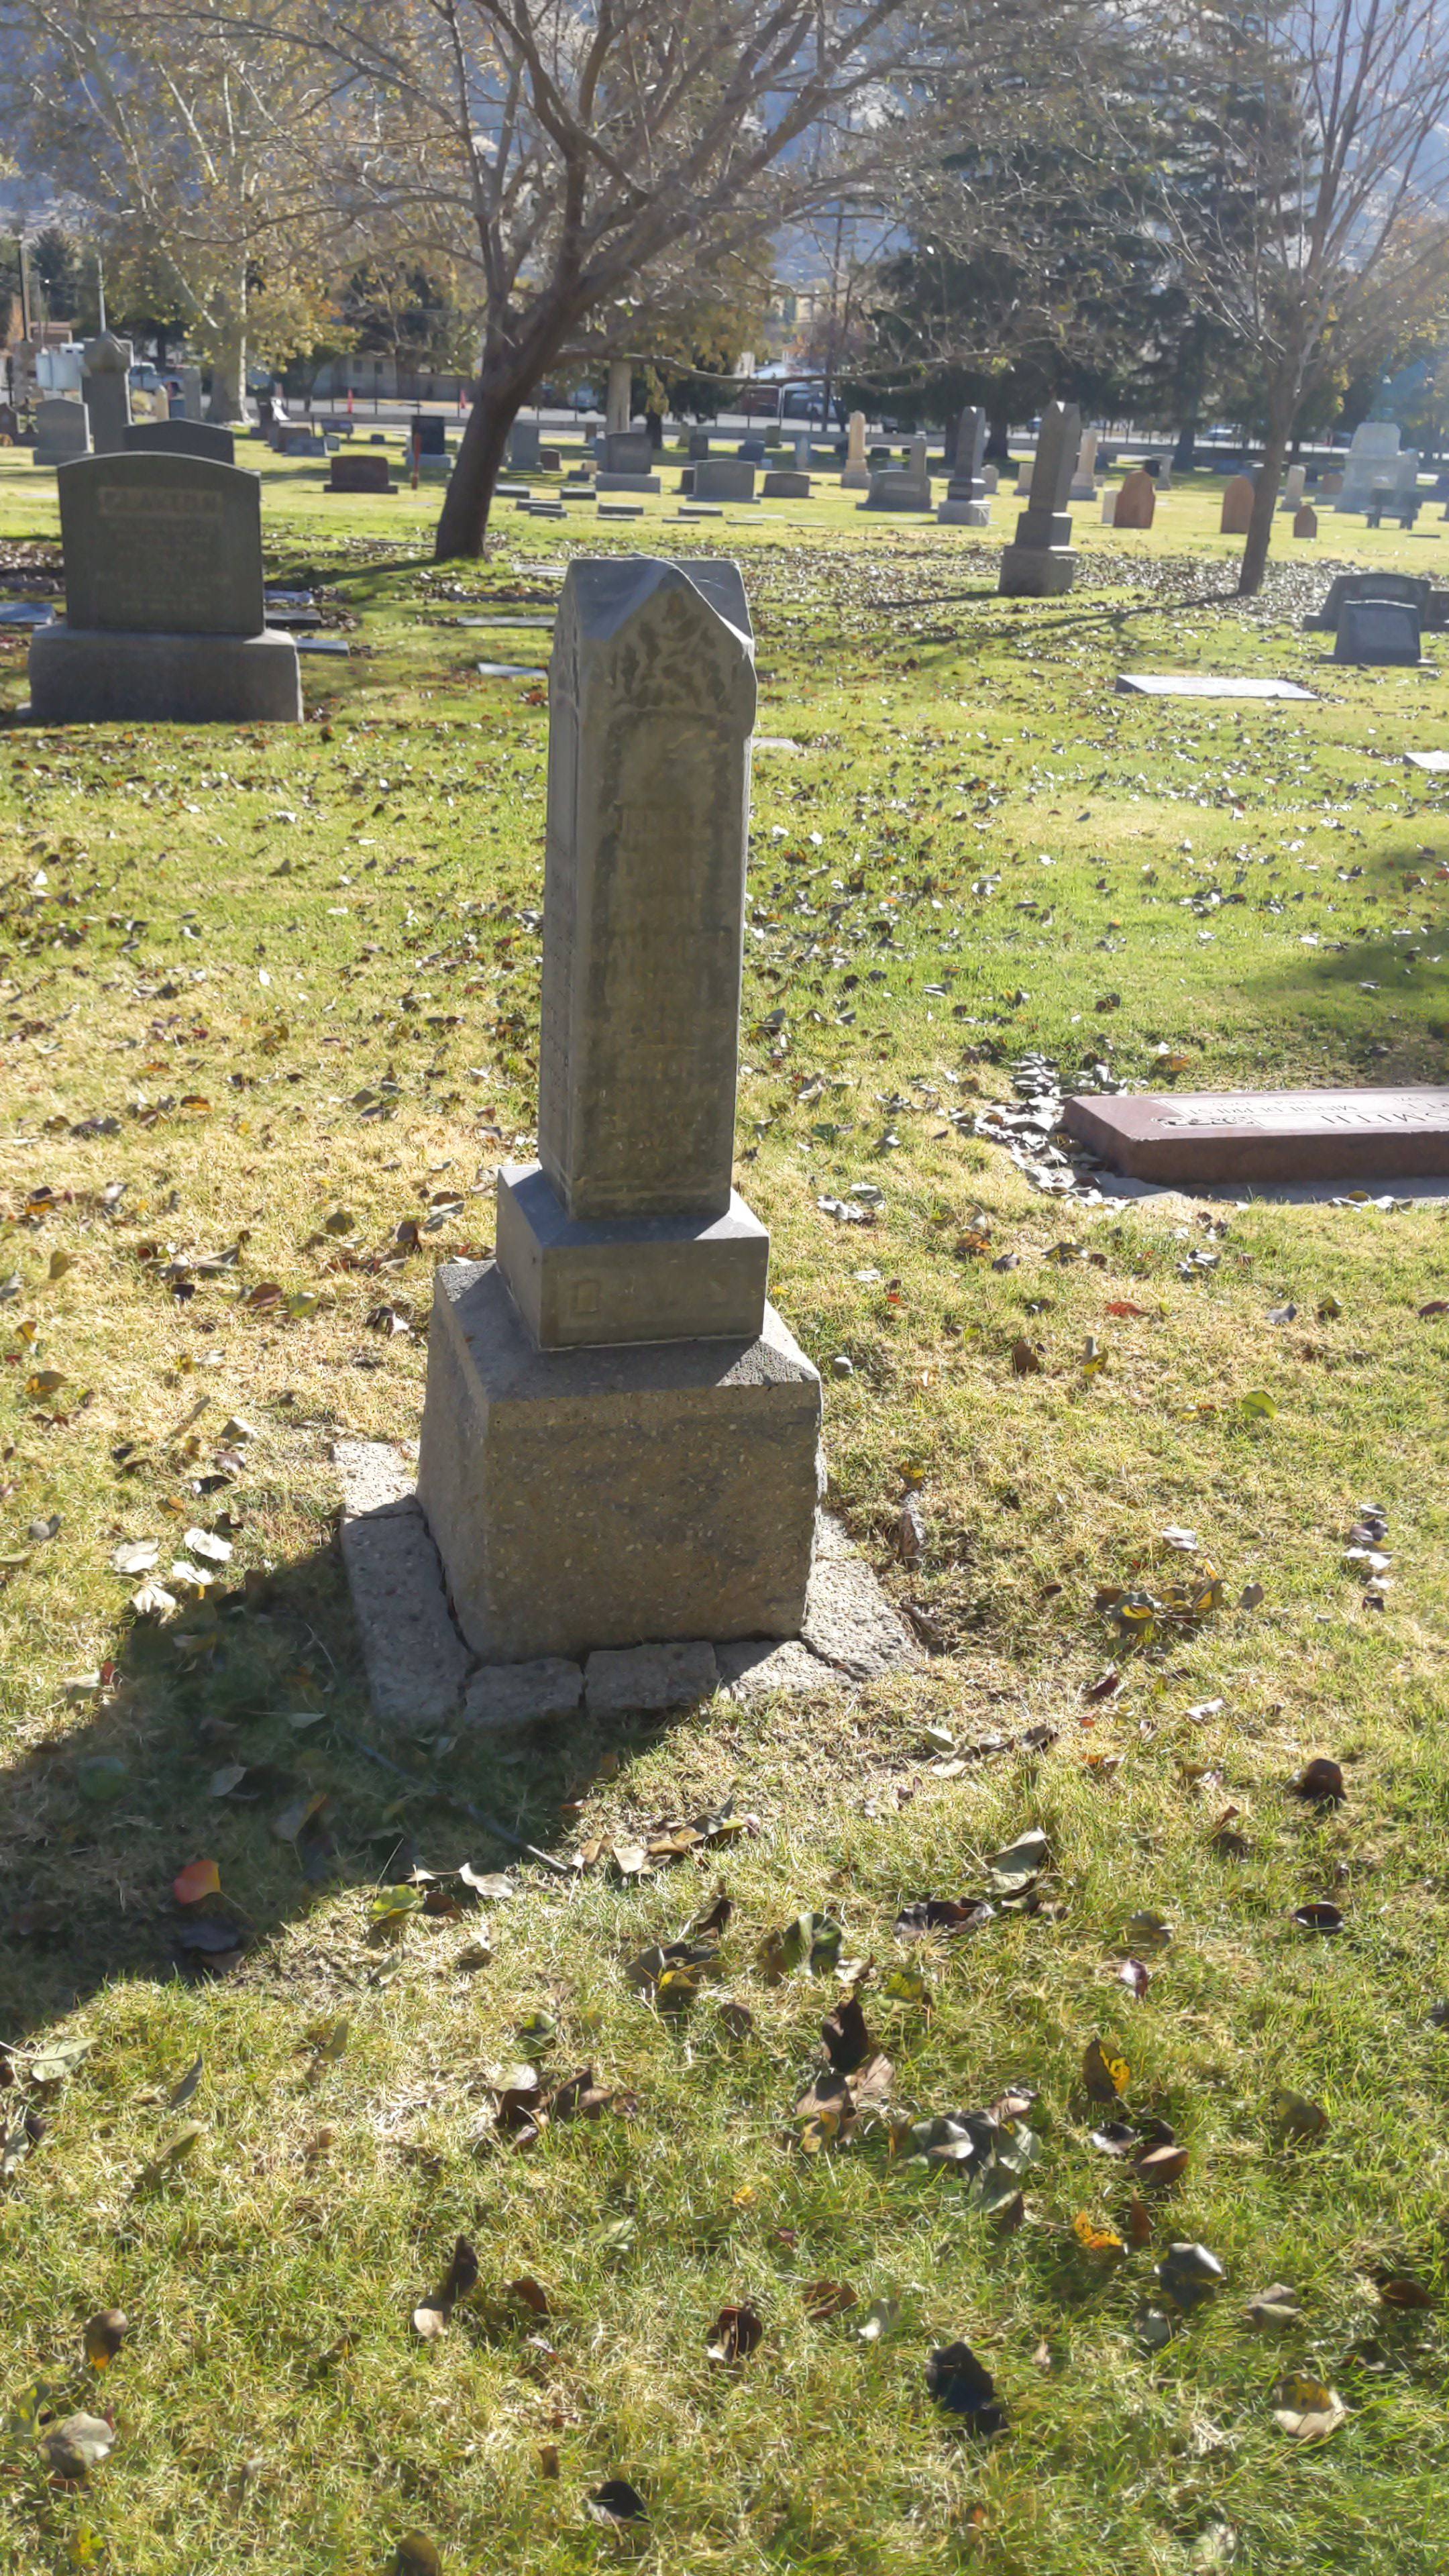obelisk: (499, 552, 761, 1361)
